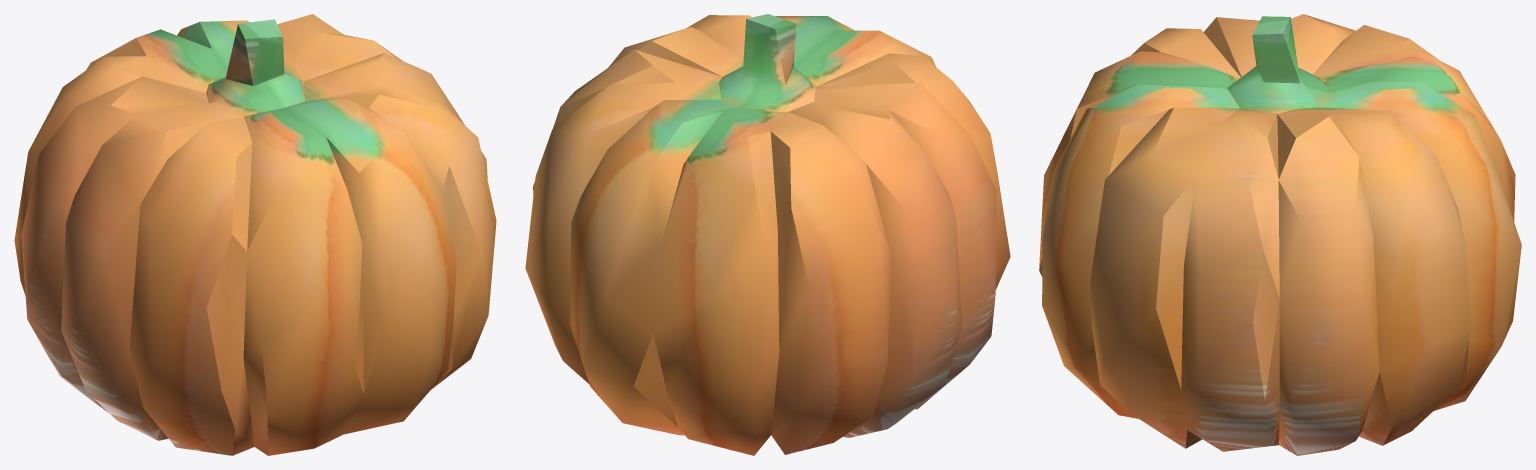
The picture shows the model from 3 angles, left to right: view 1: azimuth 30°, elevation 25°; view 2: azimuth 150°, elevation 25°; view 3: azimuth 270°, elevation 25°; orthographic projection.
Parts seen in each view (by area): view 1: pumpkin; view 2: pumpkin; view 3: pumpkin.
Part boxes in pixels (left/top/right/bottom): pumpkin: left=14, top=14, right=496, bottom=455; pumpkin: left=525, top=14, right=1010, bottom=455; pumpkin: left=1039, top=14, right=1521, bottom=455.
Bounding box in the file's own units: 0.3917 × 0.3419 × 0.3916.
Materials: 1 (1 with a texture image).
